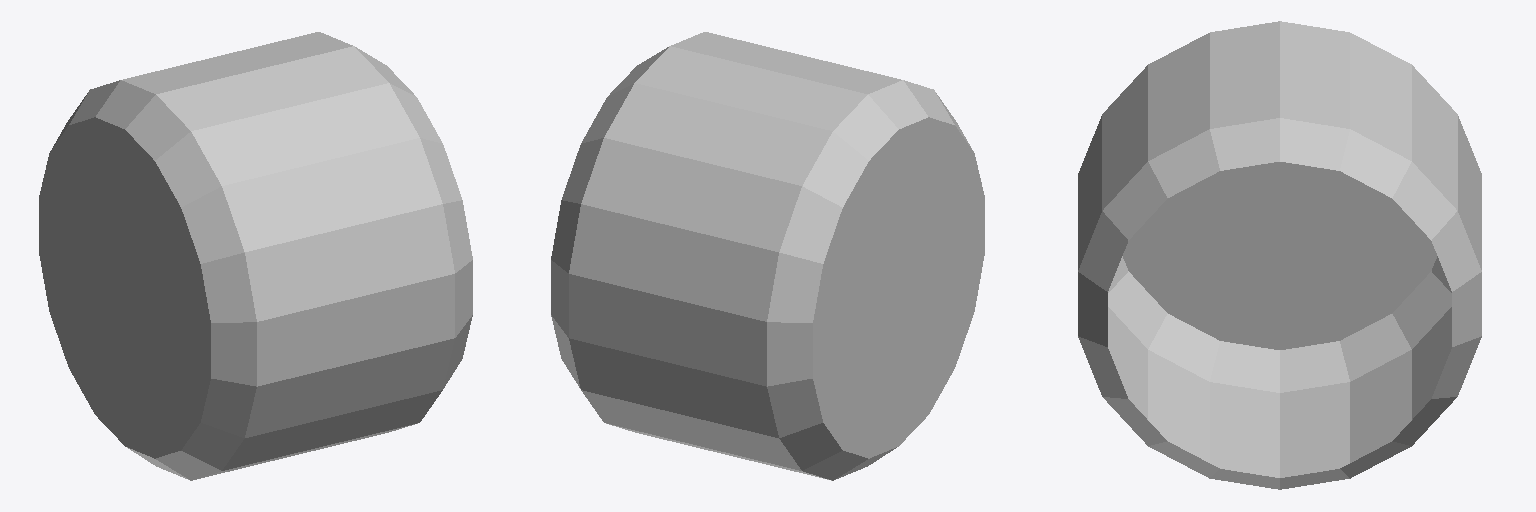
Rendered from Tire front right unwrapped.obj.
The picture shows the model from 3 angles: view 1: azimuth 30°, elevation 25°; view 2: azimuth 150°, elevation 25°; view 3: azimuth 270°, elevation 25°; orthographic projection.
Visible parts, largest first — view 1: CarMoonfullTireFrontRight; view 2: CarMoonfullTireFrontRight; view 3: CarMoonfullTireFrontRight.
Boxes of the visible parts, x1,y1,x2,y2 form: CarMoonfullTireFrontRight: [39, 32, 472, 480]; CarMoonfullTireFrontRight: [551, 32, 984, 480]; CarMoonfullTireFrontRight: [1078, 21, 1481, 489].
Size of the model in its own units: 25.27 by 34.28 by 33.76.